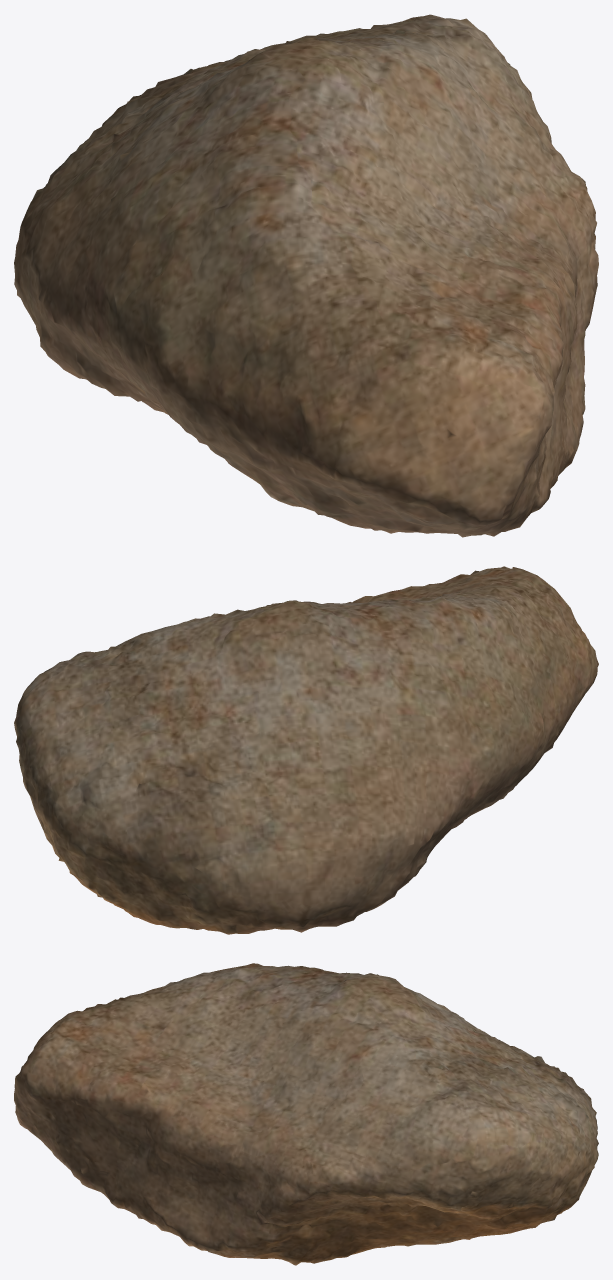
File: granite-outcrop.glb
3 views of the same model, one above another, from view 1: azimuth 30°, elevation 25°; view 2: azimuth 150°, elevation 25°; view 3: azimuth 270°, elevation 25° (orthographic). The views are drawn at different scales.
Visible parts, largest first — view 1: granite-outcrop; view 2: granite-outcrop; view 3: granite-outcrop.
Boxes of the visible parts, x1=… form: granite-outcrop: x1=14, y1=14, x2=598, y2=537; granite-outcrop: x1=14, y1=566, x2=598, y2=934; granite-outcrop: x1=14, y1=963, x2=598, y2=1265.
Size of the model in its own units: 0.363 by 0.2516 by 0.5511.
1 material, 1 textured.
